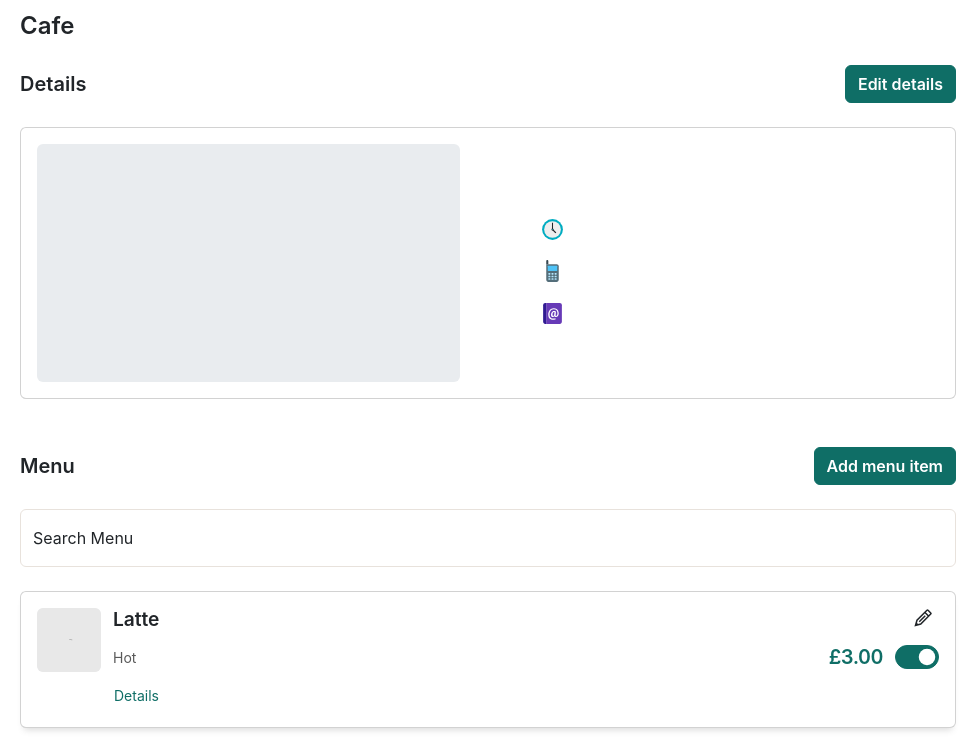
Test case: the manager's menu search › copes with an item that has no description
Type "zz" into the field labelled "Search Menu". click: (488, 538)
box: [20, 509, 956, 567]
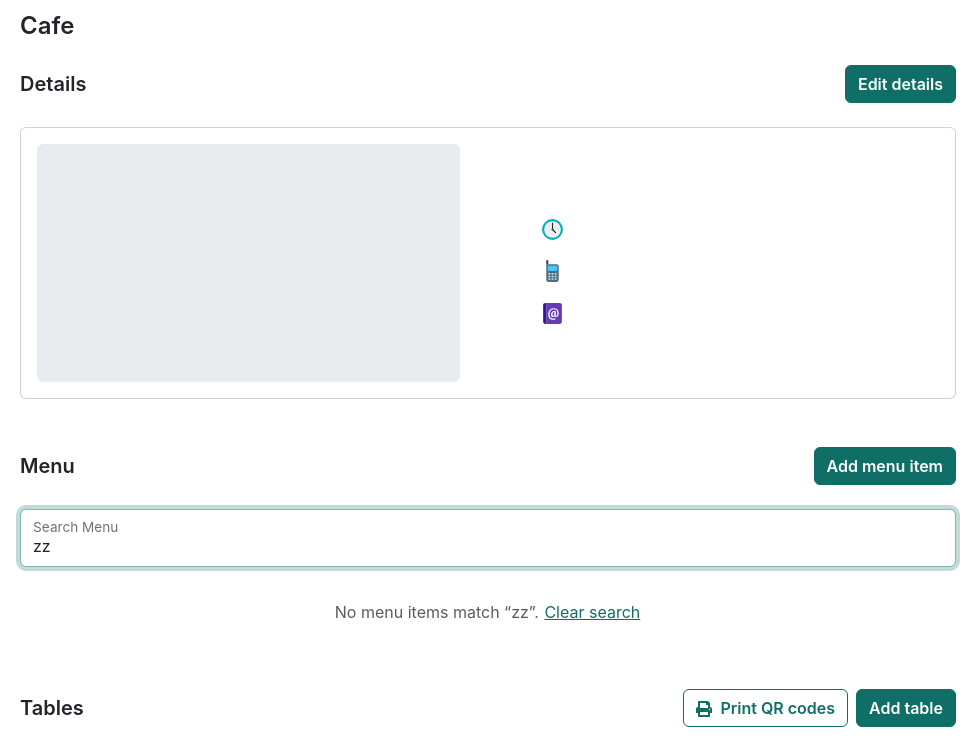
Now the text "No menu items match “zz”. Clear search" is shown, box [335, 599, 641, 625]
